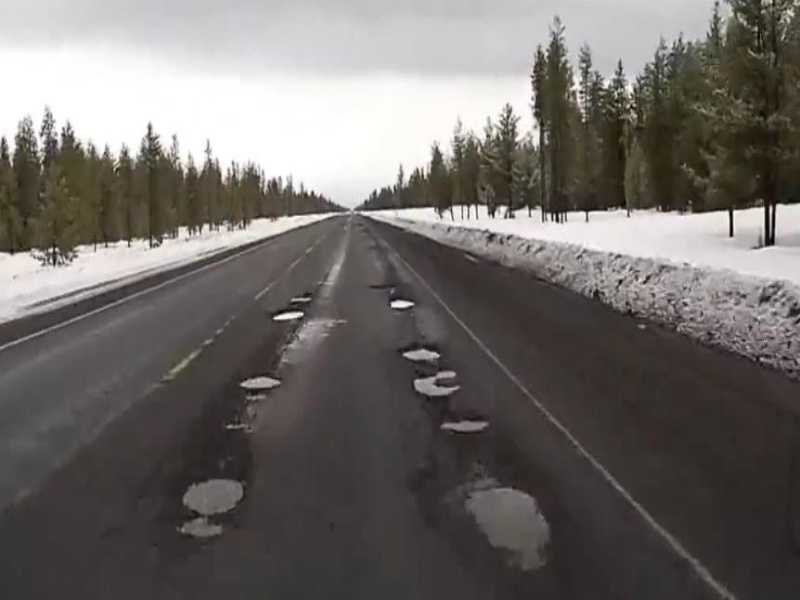pothole: (451, 480, 569, 570), (177, 474, 248, 543), (404, 367, 466, 403), (395, 341, 448, 367), (234, 373, 283, 398), (436, 416, 493, 436), (269, 308, 306, 325), (387, 296, 416, 311)
